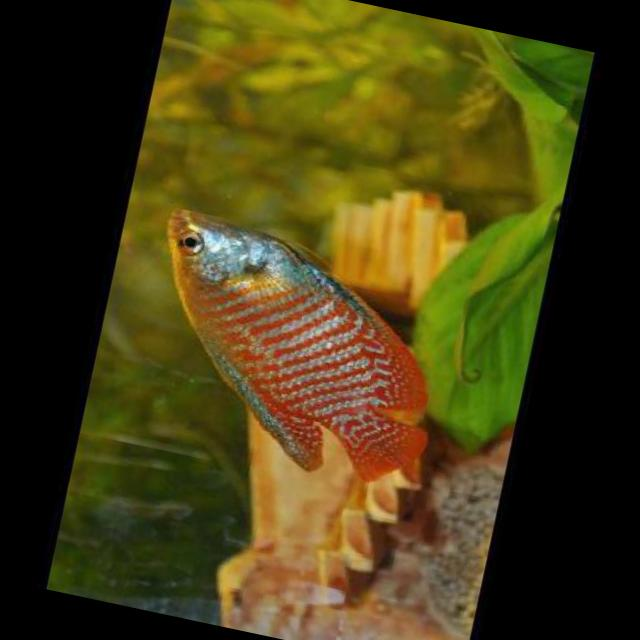Gourami: (115, 204, 462, 495)
